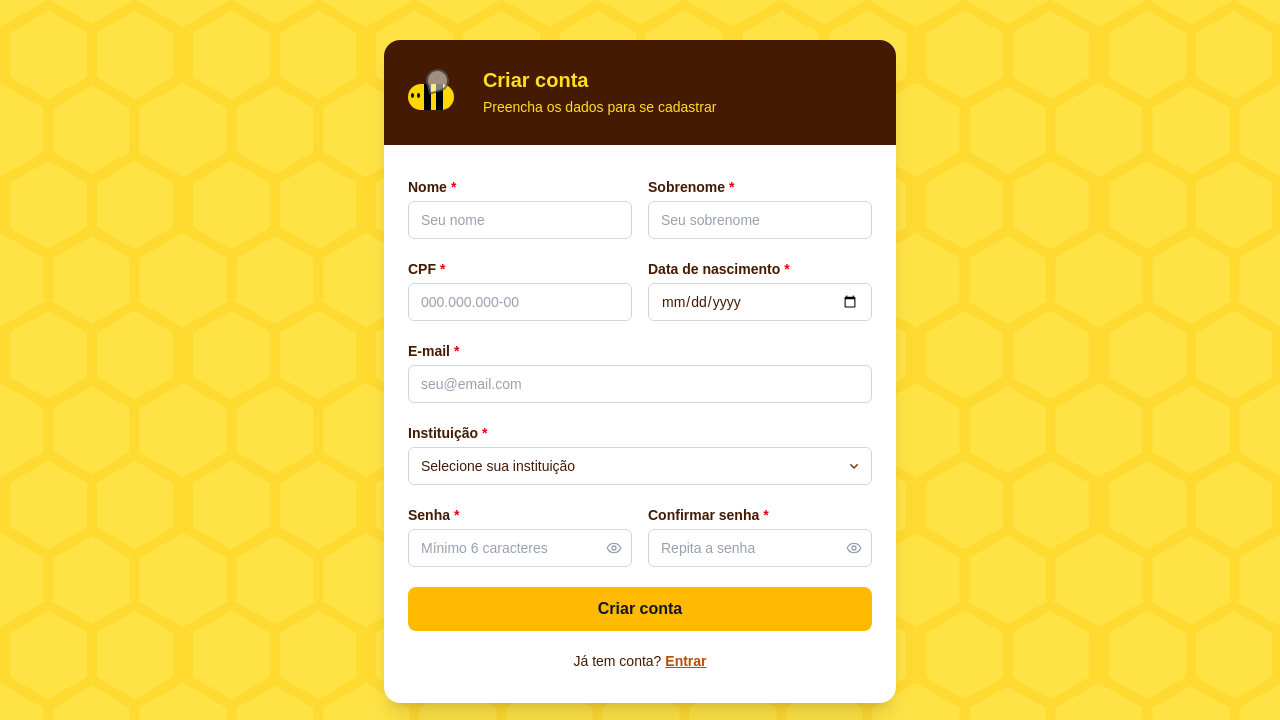
it: Página de Cadastro — integração › formata CPF ao digitar
Type "16205343045" into the field with id "cpf" at (520, 302), box x1=408 y1=283 x2=632 y2=321
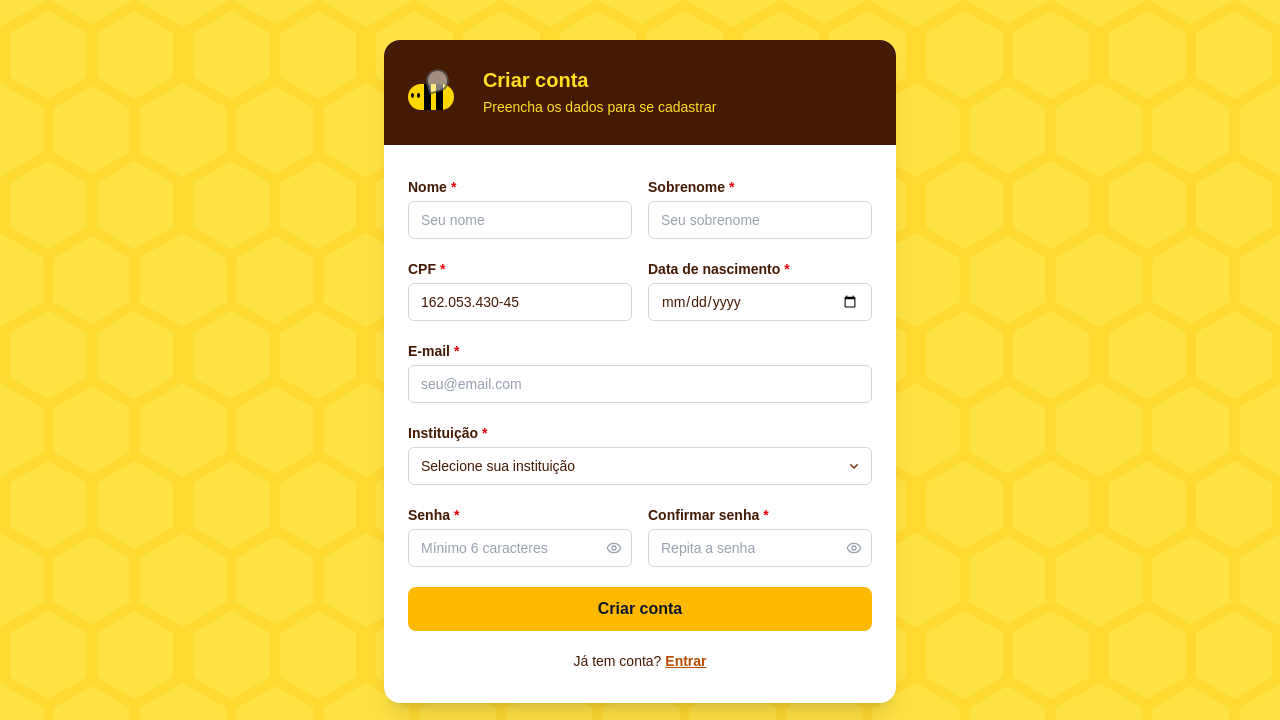
Now the field with id "cpf" holds "162.053.430-45", box x1=408 y1=283 x2=632 y2=321
